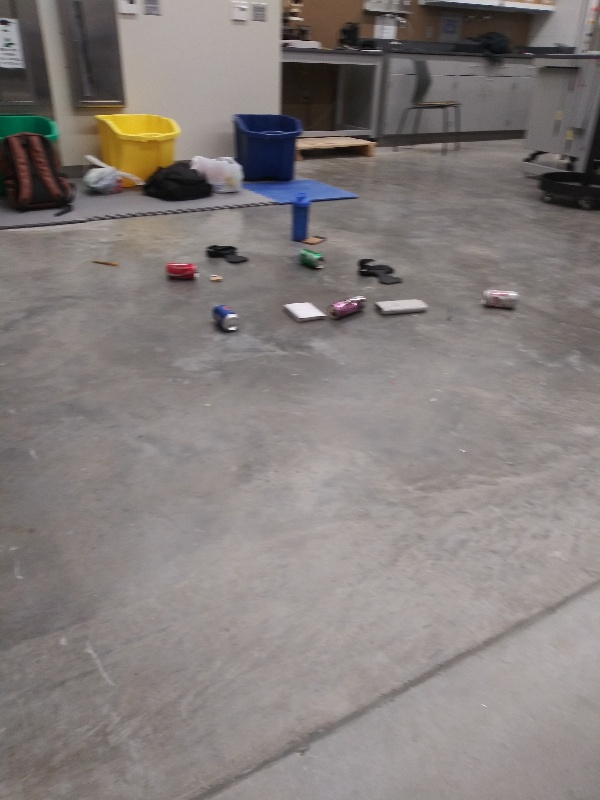can: (324, 292, 365, 321), (477, 284, 520, 311), (209, 301, 241, 333), (162, 260, 201, 282), (293, 247, 328, 271)
